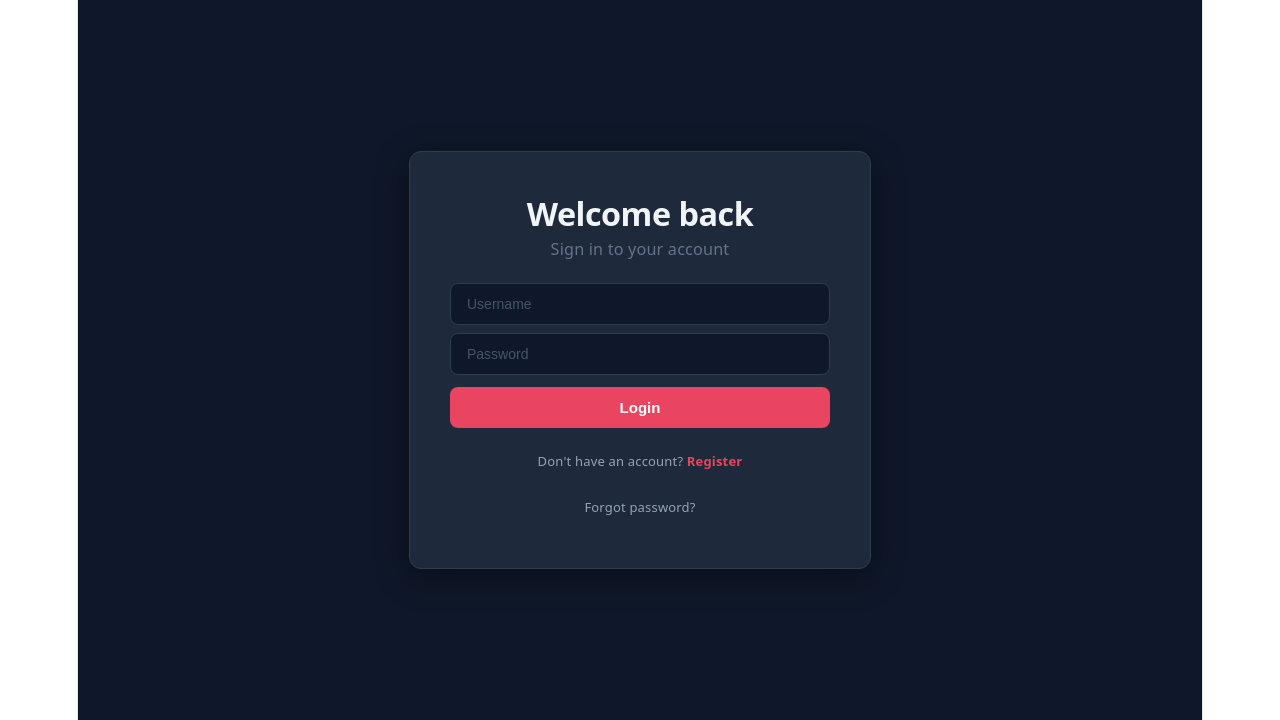
Test: LoginPage › should redirect to workspace on successful login
Type "user" into the field with placeholder "Username". click: point(640, 304)
box: top-left (450, 282), bottom-right (830, 324)
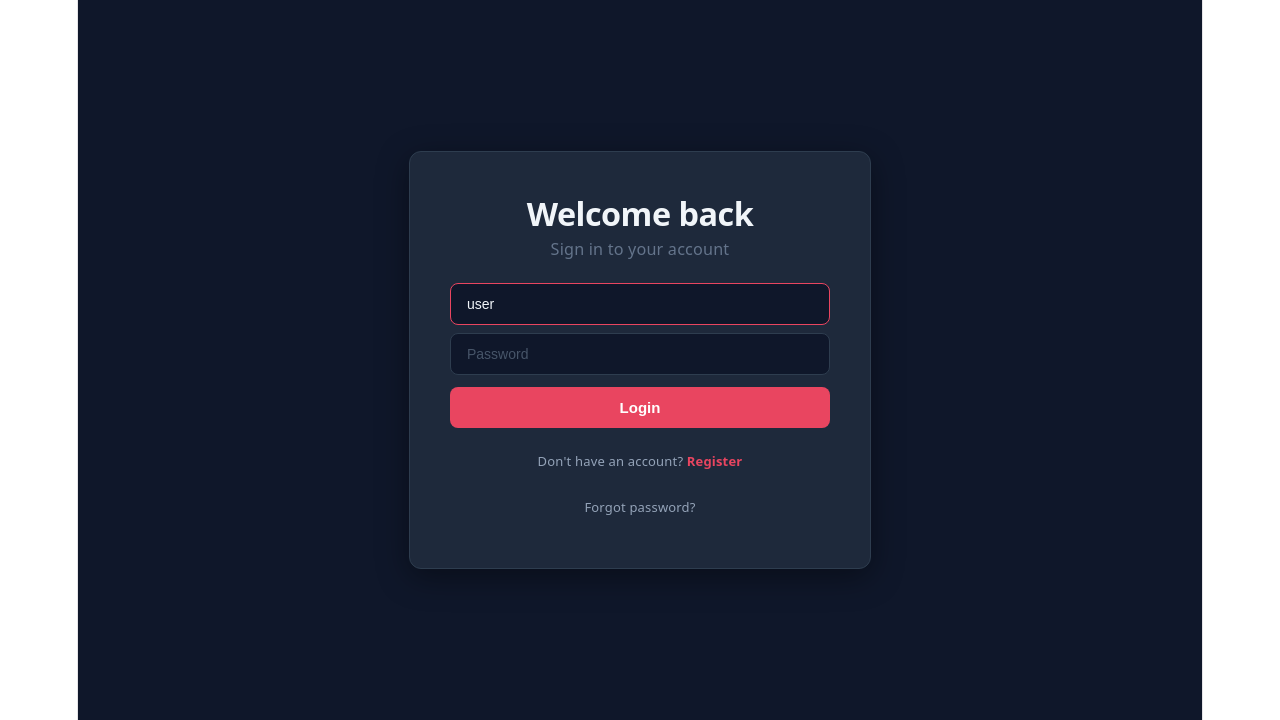
Type "password" into the password field with placeholder "Password". click: point(640, 354)
box: top-left (450, 332), bottom-right (830, 374)
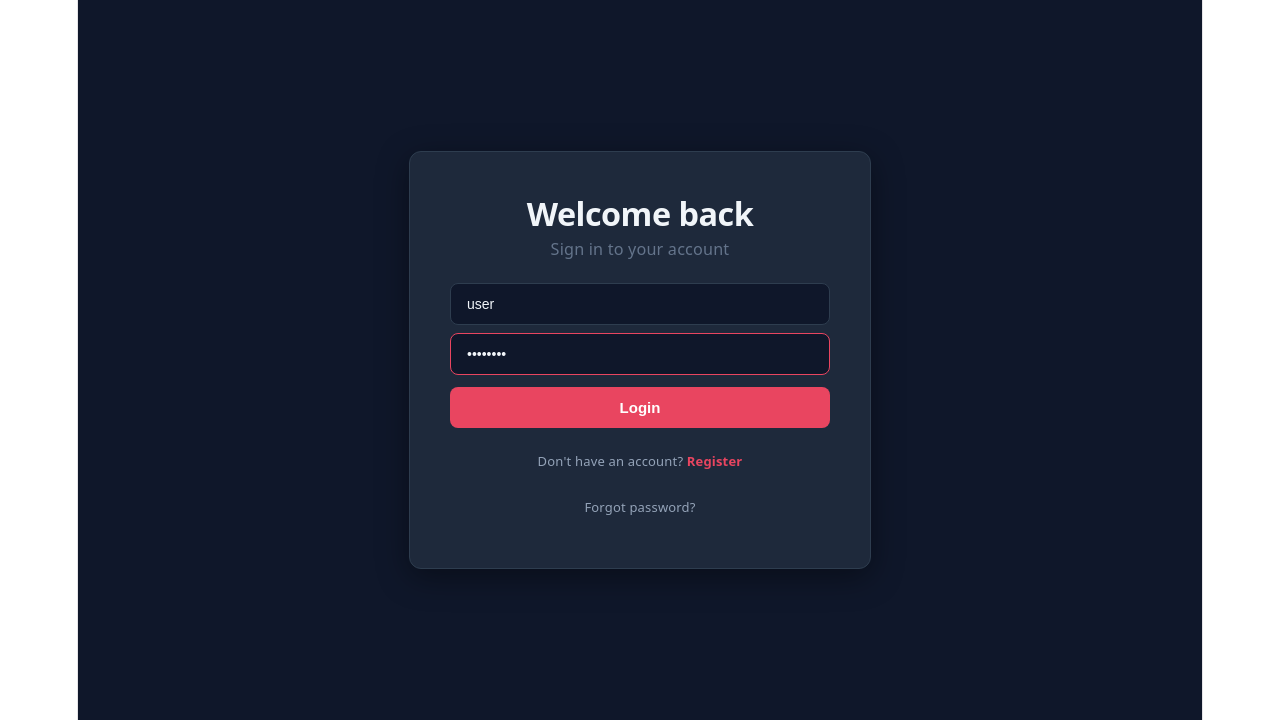
Click the button "Login". click: point(640, 407)
box: top-left (450, 386), bottom-right (830, 428)
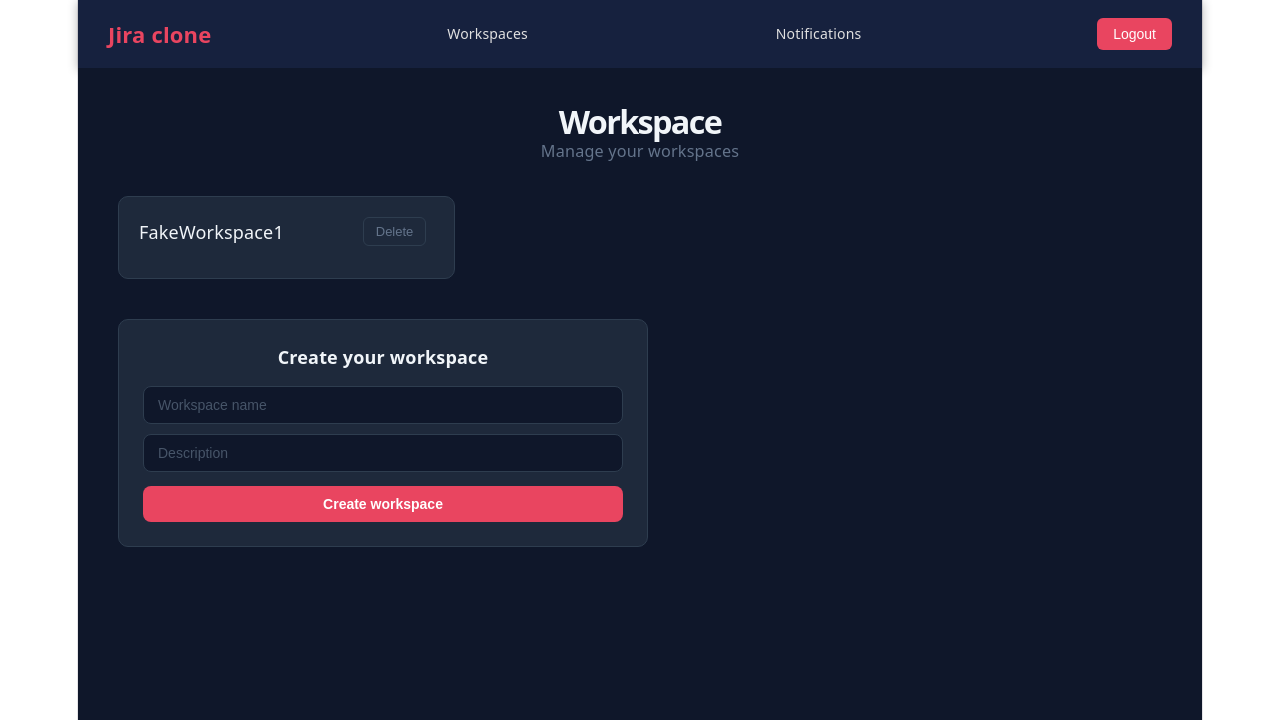
Now the heading "Workspace" is shown, box top-left (559, 99), bottom-right (721, 143)
